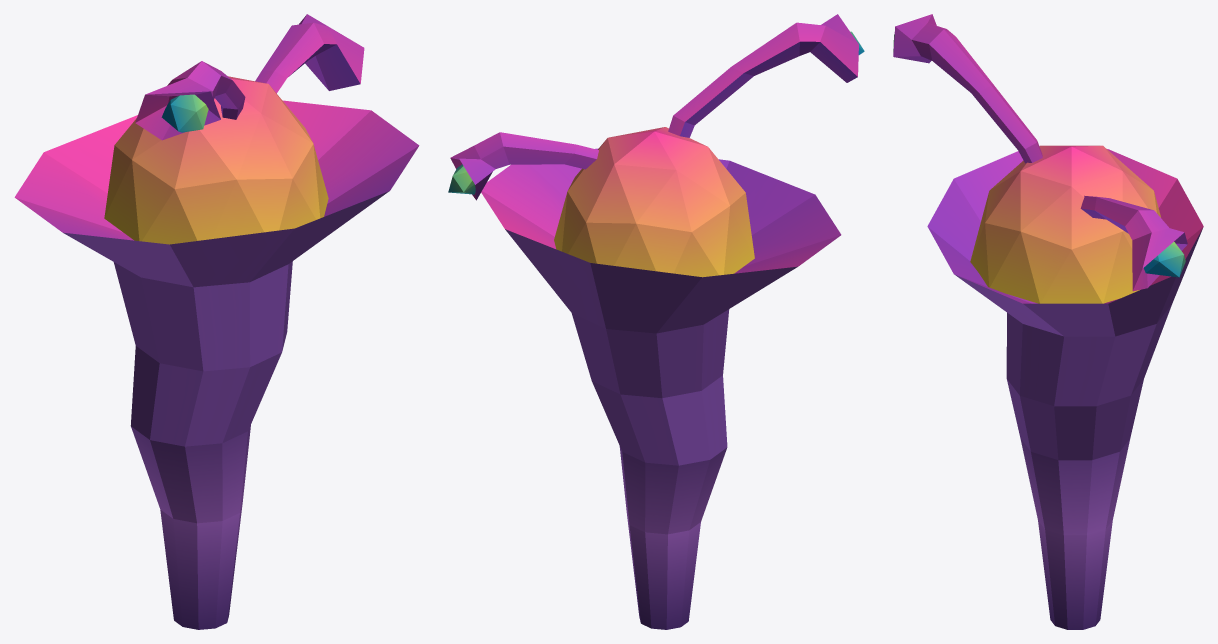
File: SM_Tree_A_02.fbx
3 views of the same model, side by side, from view 1: azimuth 30°, elevation 25°; view 2: azimuth 150°, elevation 25°; view 3: azimuth 270°, elevation 25° (orthographic). The views are drawn at different scales.
Parts seen in each view (by area): view 1: TreeTrunk.003, TreeBall.003, TreeBranch.010, TreeBranch.009, TreeFruit.009; view 2: TreeTrunk.003, TreeBall.003, TreeBranch.009, TreeBranch.010; view 3: TreeTrunk.003, TreeBall.003, TreeBranch.009, TreeBranch.010, TreeFruit.010.
Boxes of the visible parts, x1,y1,x2,y2 form: TreeTrunk.003: (14, 100, 419, 629); TreeBall.003: (104, 76, 328, 244); TreeBranch.010: (255, 14, 364, 93); TreeBranch.009: (135, 61, 245, 140); TreeFruit.009: (161, 94, 208, 132); TreeTrunk.003: (481, 148, 841, 629); TreeBall.003: (554, 127, 754, 277); TreeBranch.009: (668, 14, 858, 137); TreeBranch.010: (450, 132, 598, 200); TreeTrunk.003: (927, 149, 1203, 629); TreeBall.003: (970, 145, 1160, 303); TreeBranch.009: (893, 14, 1042, 163); TreeBranch.010: (1080, 195, 1187, 291); TreeFruit.010: (1144, 242, 1185, 277).
Bounding box in the file's own units: 187 × 228 × 372.
